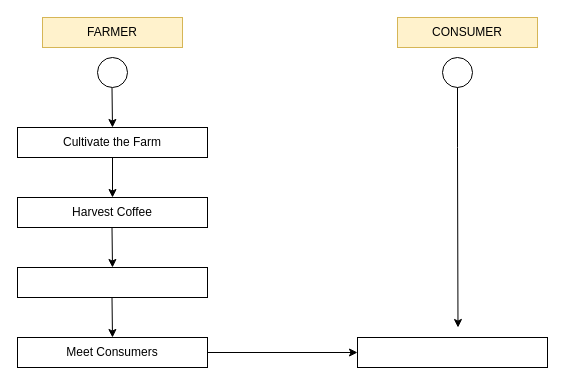
The diagram is 565 pixels wide and 385 high, and some of its shapes have lost their labels. The shapes that lost their labels are listed below. From the top down, each one's centre as x and y in pixels, then its label:
At pixel 112 282: "Take to Market".
At pixel 452 352: "Buy Coffee".
